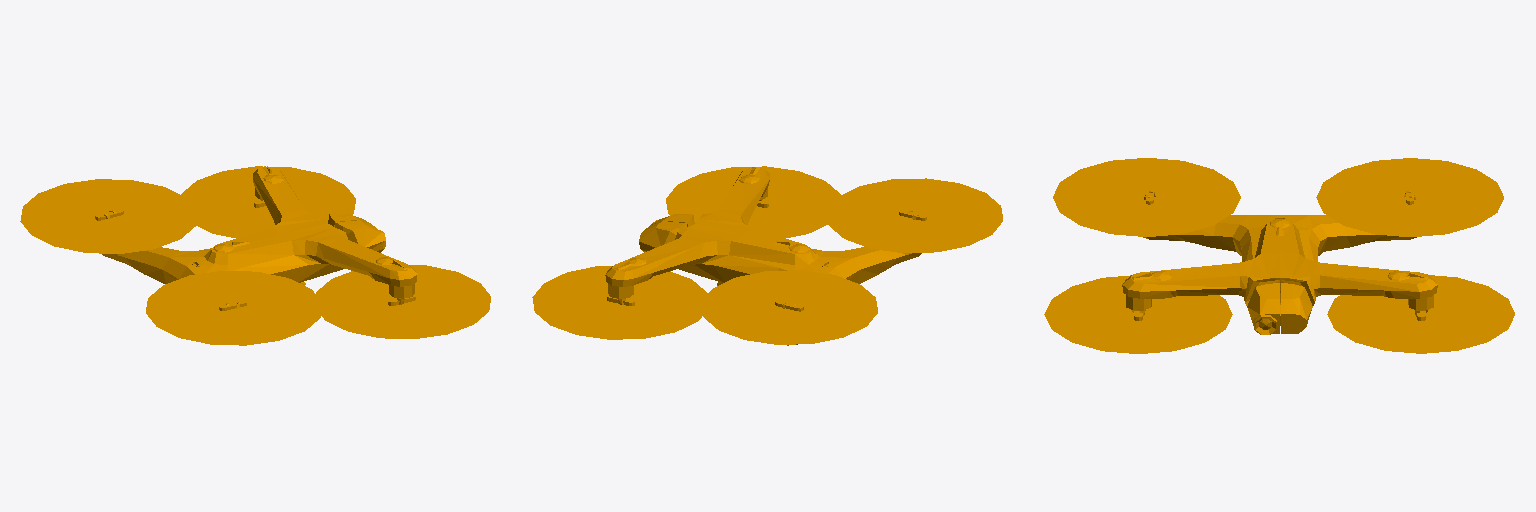
robot.urdf — visual_quadrotor:
<?xml version="1.0"?>
<!-- This model file is deprecated and should not be used in new code.
Instead, use the drake_models/skydio_2/quadrotor.urdf.
TODO([author]) Delete this on 2024-05-01. -->
<!-- Mesh file and approximate numbers are from [author] at Skdio.  -->
<robot name="visual_quadrotor">
  <!--
  Axes are standard vehicle coordinates:
    +X - Pointing toward the nose (primary camera).
    +Y - Towards the left rotors.
    +Z - Towards the top of the vehicle..
  Origin:
    (0, 0, 0) in the center of the main quadrotor body.
  -->
  <link name="visual_quadrotor_base_link">
    <inertial>
      <mass value="0.775"/>
      <origin xyz="0 0 0"/>
      <inertia ixx="0.0015" ixy="0.0" ixz="0.0" iyy="0.0025" iyz="0.0" izz="0.0035"/>
    </inertial>
    <visual>
      <origin rpy="1.570796 0 0" xyz="0 0 0"/>
      <geometry>
        <mesh filename="./skydio_2_1000_poly.obj" scale=".00254"/>
      </geometry>
    </visual>
  </link>
</robot>

--- Facts derived from the render (not from the file) ---
The picture shows the robot from 3 angles, left to right: view 1: azimuth 30°, elevation 25°; view 2: azimuth 150°, elevation 25°; view 3: azimuth 270°, elevation 25°; orthographic projection.
Model visual_quadrotor with 1 links and 0 joints (none), rooted at visual_quadrotor_base_link, posed all joints at 0.
Visible links, largest first — view 1: visual_quadrotor_base_link; view 2: visual_quadrotor_base_link; view 3: visual_quadrotor_base_link.
Link boxes in pixels (bbox=[...]): visual_quadrotor_base_link: bbox=[20, 166, 490, 345]; visual_quadrotor_base_link: bbox=[532, 166, 1002, 345]; visual_quadrotor_base_link: bbox=[1044, 158, 1514, 353].
Bounding box of the posed robot: 0.3369 × 0.4087 × 0.0756 m (x, y, z).
1 mesh visuals loaded from 1 distinct referenced files (1 OBJ).
